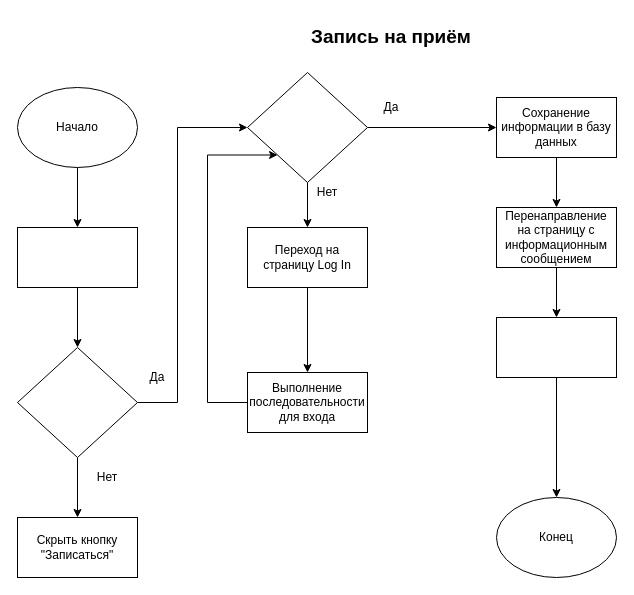
Image size: 634x595. Some labels were removed from this diagram. Here are the shapes that lost their labels. From the top down, the box of each, then its label:
(246, 72, 368, 182): Пользователь авторизован?
(16, 226, 138, 288): Клик на "Записаться"
(496, 316, 616, 378): Просмотр страницы
(16, 346, 138, 458): Все поля заполнены?
